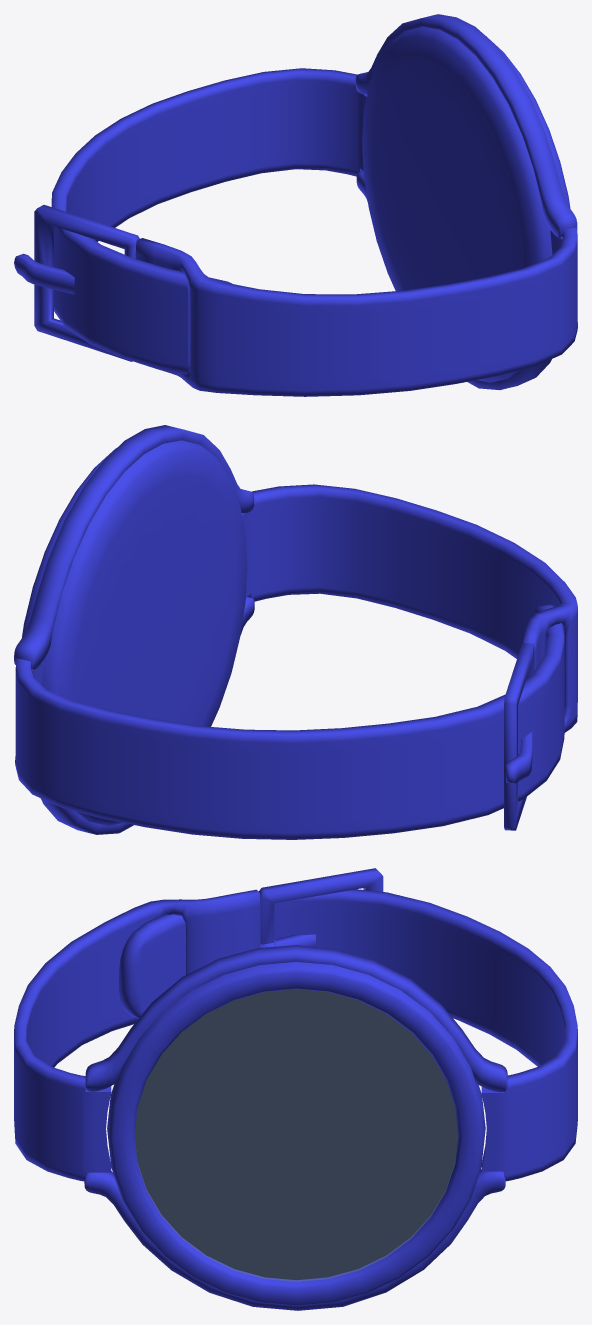
File: MSH_Wristwatch.fbx
3 renders of one model, top to bottom at view 1: azimuth 30°, elevation 25°; view 2: azimuth 150°, elevation 25°; view 3: azimuth 270°, elevation 25°, orthographic. The views are drawn at different scales.
Visible parts, largest first — view 1: MSH_Wristwatch; view 2: MSH_Wristwatch; view 3: MSH_Wristwatch.
Part boxes in pixels (x1=…): MSH_Wristwatch: x1=14, y1=14, x2=577, y2=396; MSH_Wristwatch: x1=14, y1=425, x2=577, y2=839; MSH_Wristwatch: x1=14, y1=868, x2=577, y2=1310.
Size of the model in its own units: 0.0681 by 0.0765 by 0.0534.
